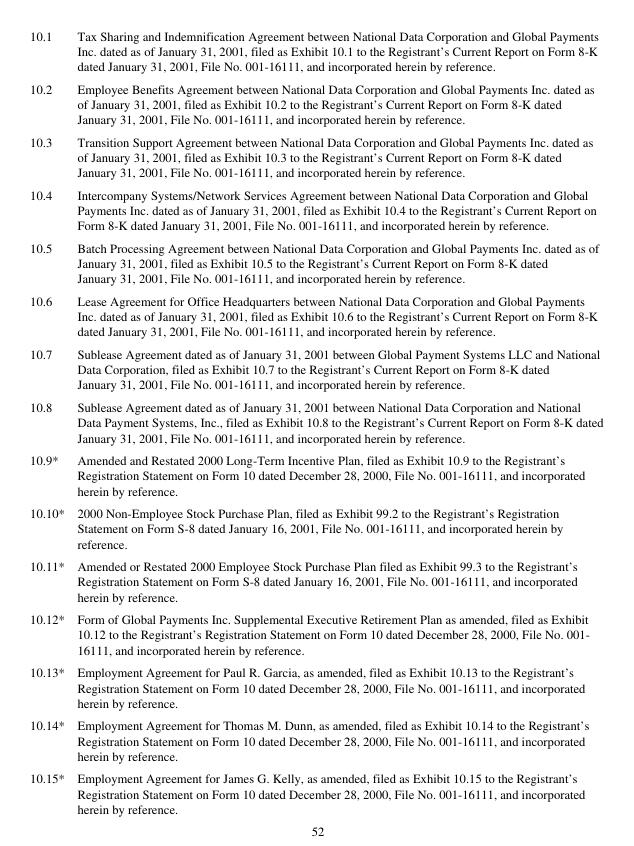table: (29, 28, 602, 815)
table column: (70, 28, 602, 815), (29, 28, 70, 815)
table row: (29, 77, 602, 130), (29, 130, 602, 183), (29, 183, 602, 236), (29, 236, 602, 289), (29, 289, 602, 342), (29, 342, 602, 395), (29, 395, 602, 448), (29, 448, 602, 501), (29, 501, 602, 554), (29, 554, 602, 607), (29, 607, 602, 660), (29, 660, 602, 713), (29, 713, 602, 766), (29, 28, 602, 77), (29, 766, 602, 815)
